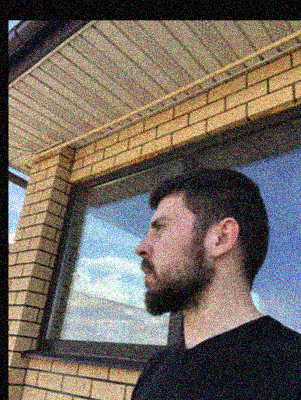without_mask: (134, 206, 193, 315)
